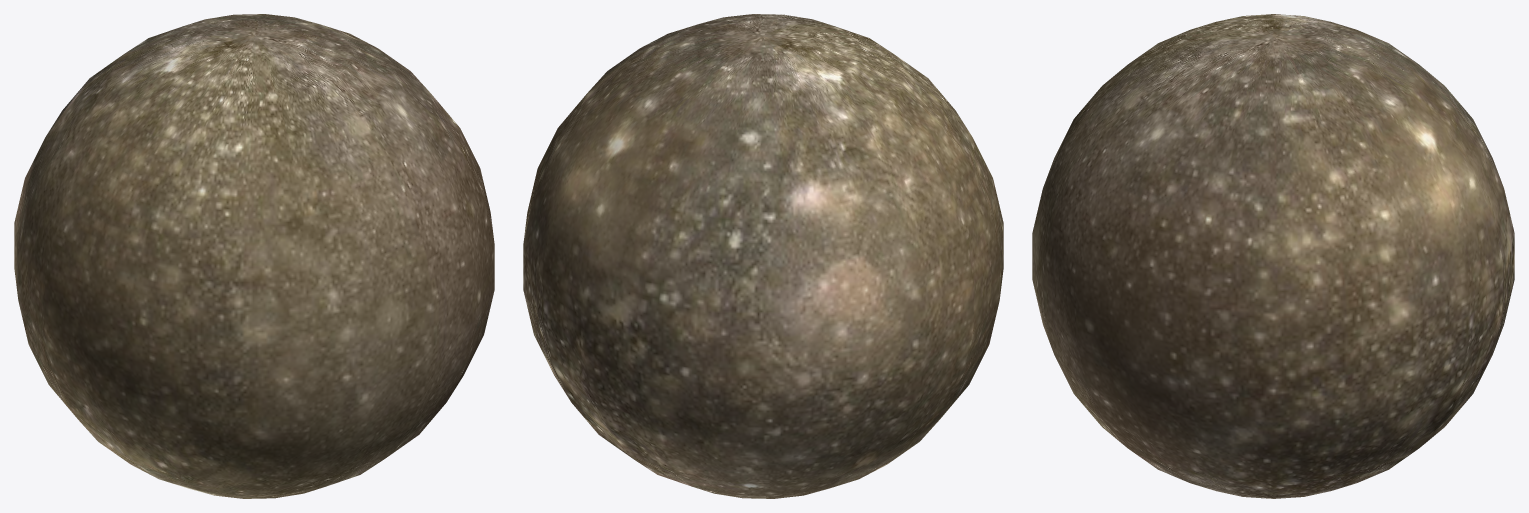
File: AsteroidA.obj
3 views of the same model, side by side, from view 1: azimuth 30°, elevation 25°; view 2: azimuth 150°, elevation 25°; view 3: azimuth 270°, elevation 25° (orthographic).
Size of the model in its own units: 1.99 by 2 by 1.99.
1 material, 1 textured.
